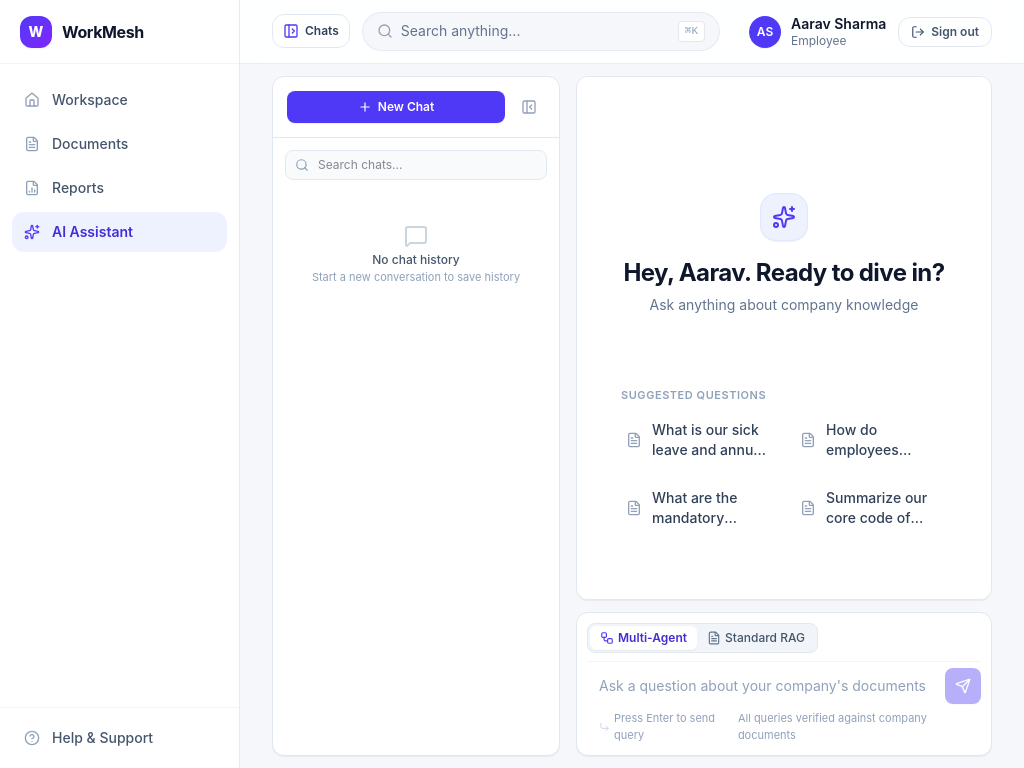
Test: KnowledgeAssistantPage › submits a query, displays loading state, and renders assistant response with citations
The width and height of the screenshot is (1024, 768).
Type "What is our sick leave policy?" into the field with placeholder "Ask a question about your company's documents...".
click(762, 686); type("What is our sick leave policy?")  # box [587,668,937,704]
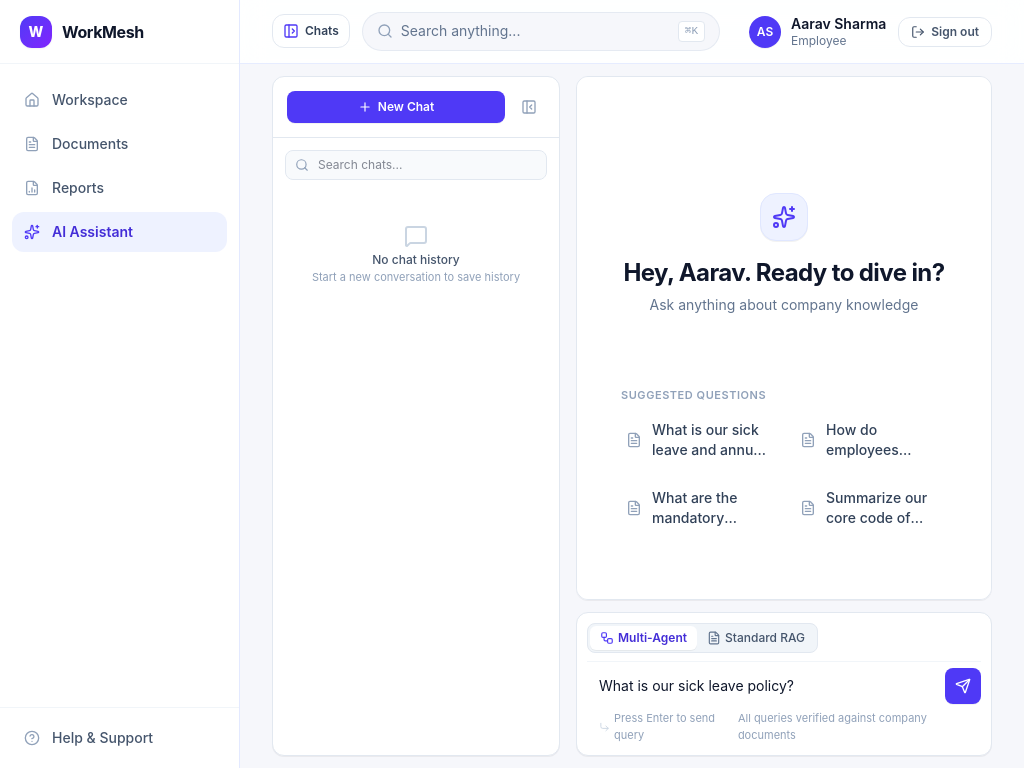
Click the button named "Send message".
click(963, 686)  # box [945,668,981,704]
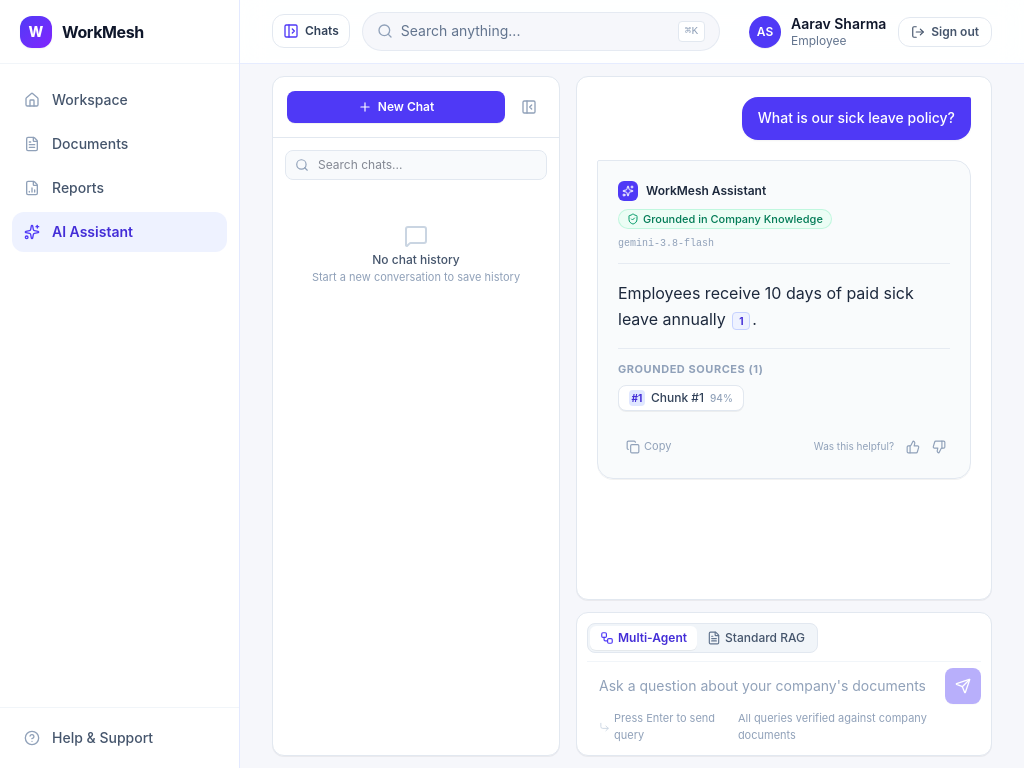
Expected: the text "What is our sick leave policy?" is shown, [742,97,971,140]
Expected: the text "Employees receive 10 days of paid sick leave annually 1 ." is shown, [618,280,950,332]
Expected: the text "gemini-3.8-flash" is shown, [618,237,714,251]
